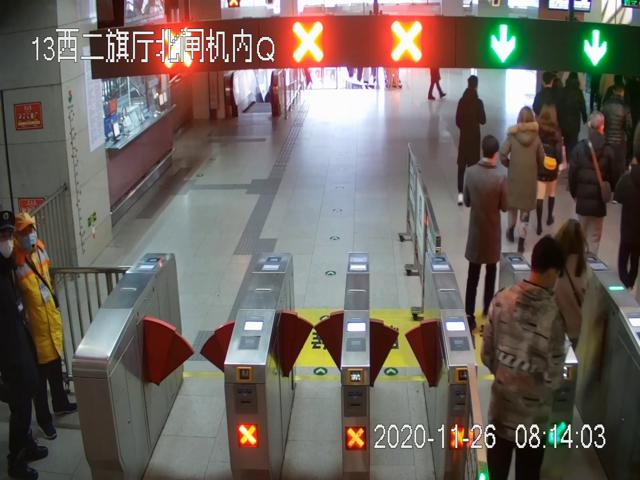person: (9, 213, 78, 438), (463, 134, 508, 324), (499, 105, 542, 254), (454, 75, 486, 208)
